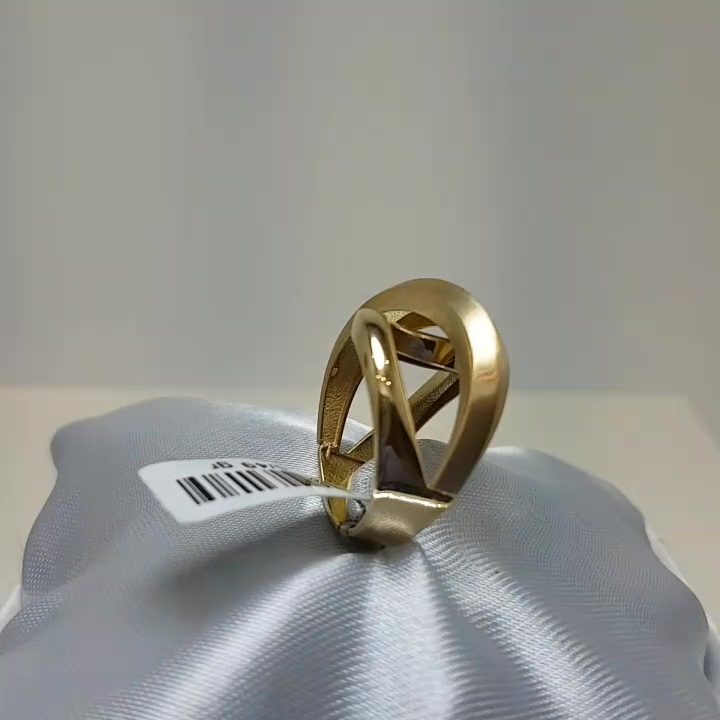Ring 3: (264, 266, 549, 566)
